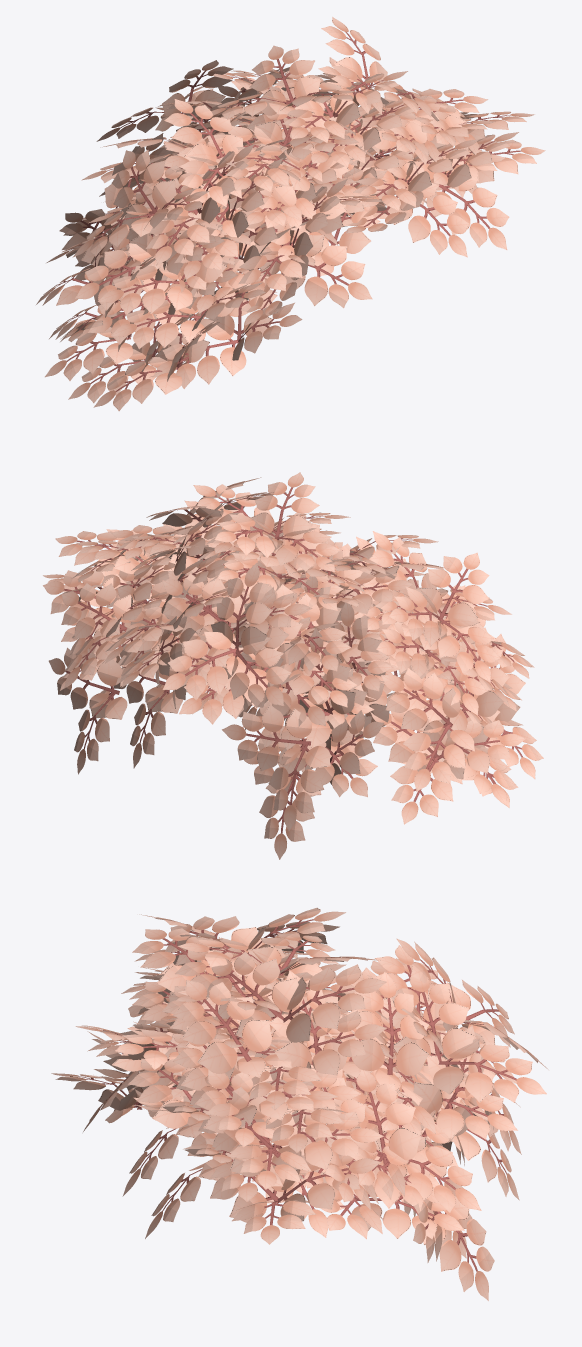
File: cherryblossomtreeleaves.fbx
3 views of the same model, one above another, from view 1: azimuth 30°, elevation 25°; view 2: azimuth 150°, elevation 25°; view 3: azimuth 270°, elevation 25° (orthographic). The views are drawn at different scales.
Parts seen in each view (by area): view 1: leaves; view 2: leaves; view 3: leaves.
Boxes of the visible parts, bbox=[...] form: leaves: bbox=[36, 17, 545, 411]; leaves: bbox=[43, 472, 543, 859]; leaves: bbox=[51, 907, 548, 1300].
Bounding box in the file's own units: 3.99 × 2.18 × 3.07.
